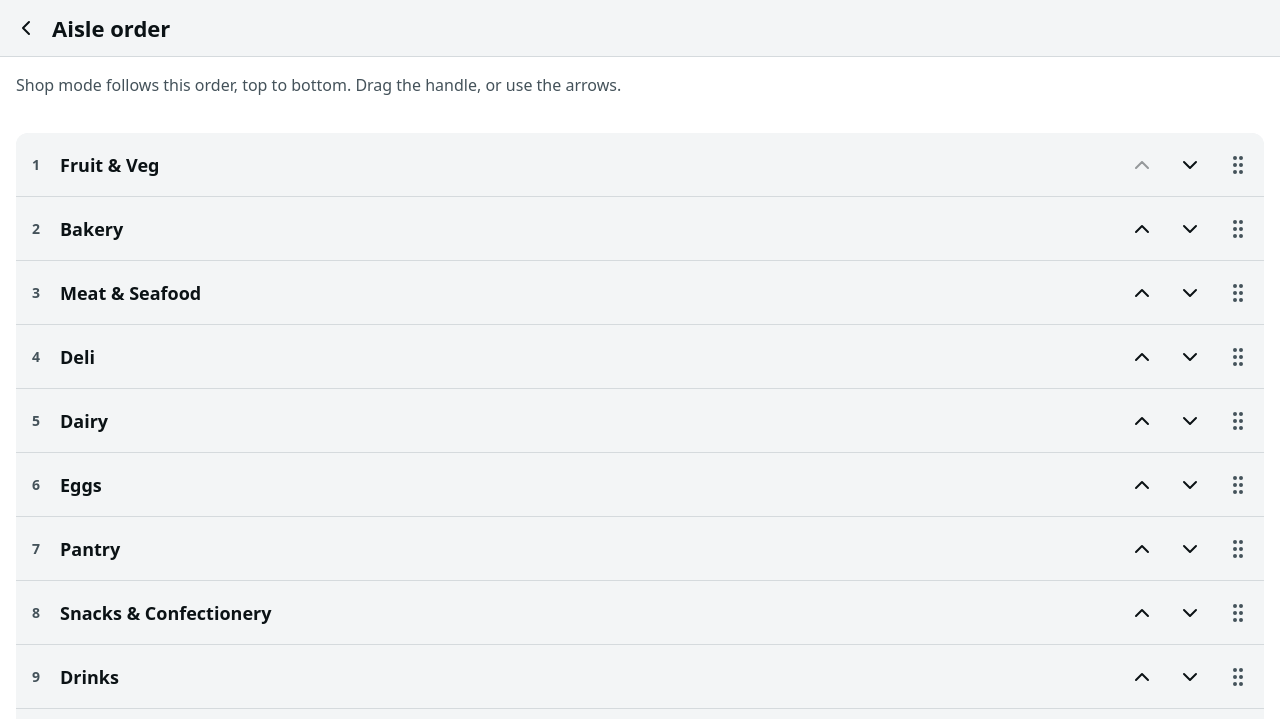
Test: Aisle order › rolls back a failed save and offers Try again
The image size is (1280, 719).
Click the button named "Move Bakery down" at [1190, 228], box [1168,206,1212,250]
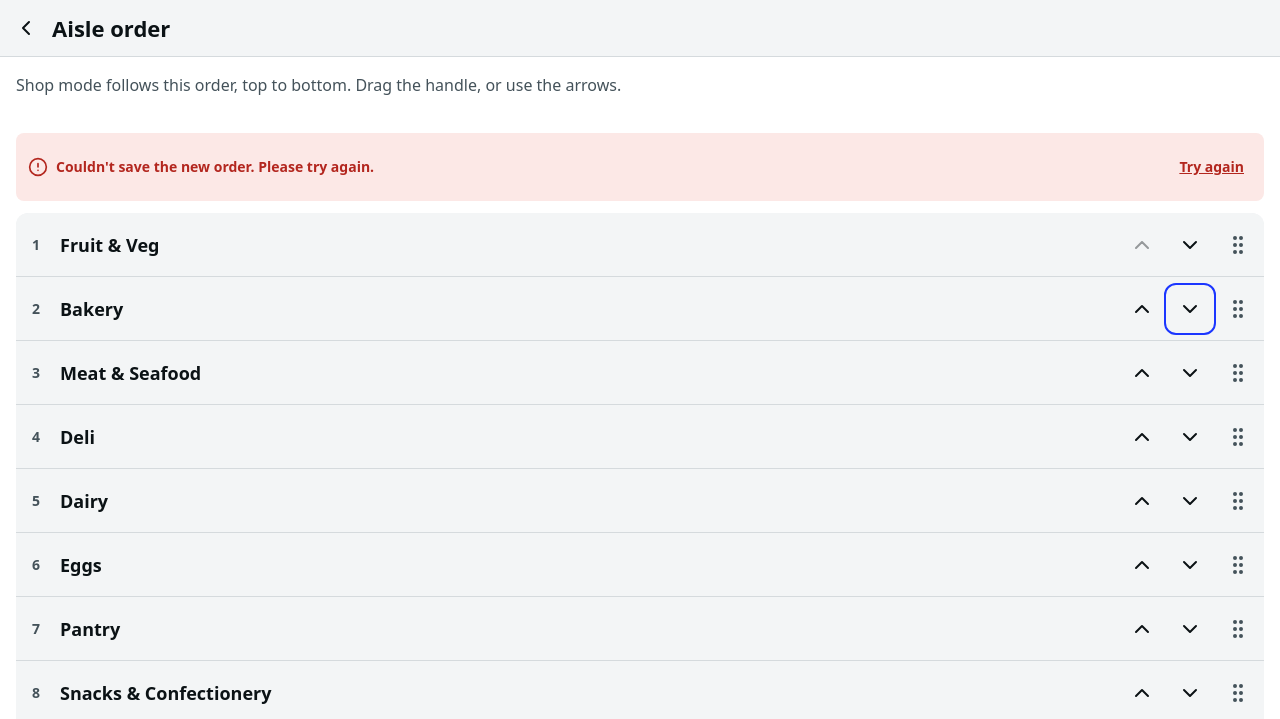
Expected: the text "Meat & Seafood" is shown, [60,360,201,384]
Expected: the message "Couldn't save the new order. Please try again. Try again" is shown, [16,133,1264,201]
Click the button "Try again" at [1212, 167], box [1171,145,1252,189]
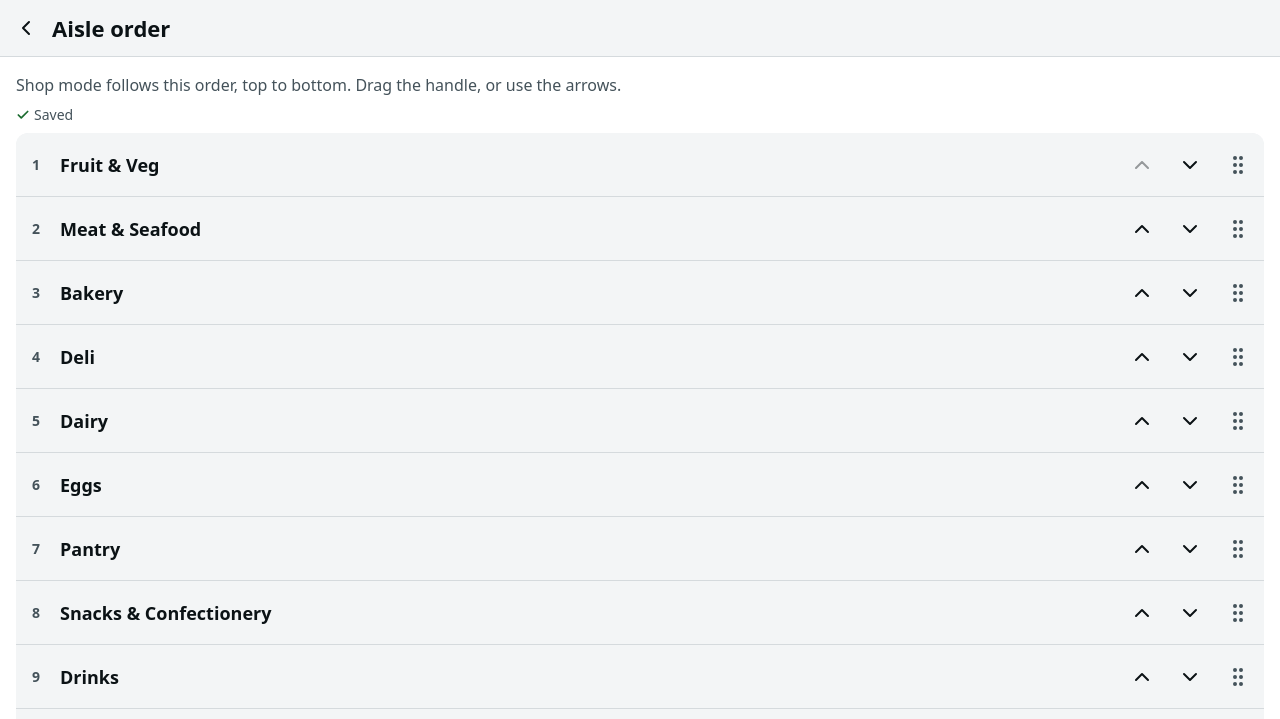
Expected: the text "Saved" is shown, [34,105,73,125]
